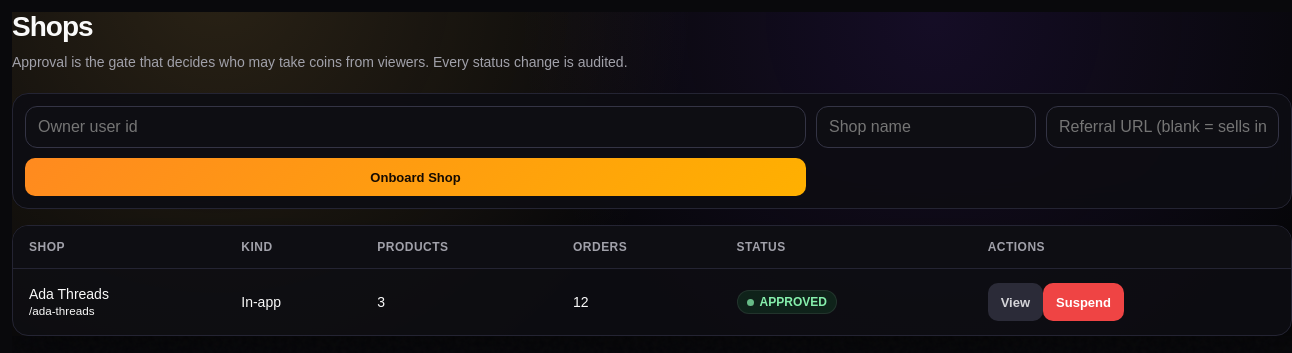
Scenario: ShopsPage › detail load failure surfaces the error
expect the text "Ada Threads" is shown: met, box [29,286,109,302]
Click the button "View": (1015,302) [988,283,1043,321]
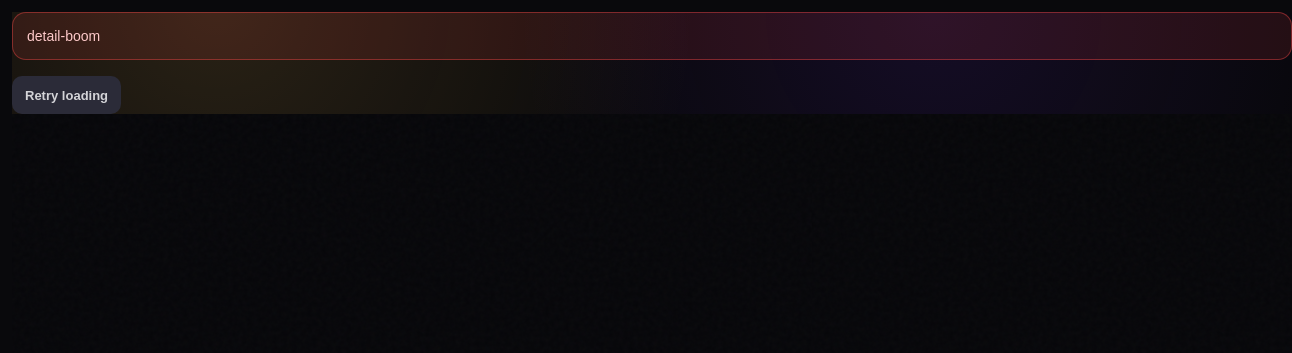
expect the text "detail-boom" is shown: met, box [12,12,1291,60]
